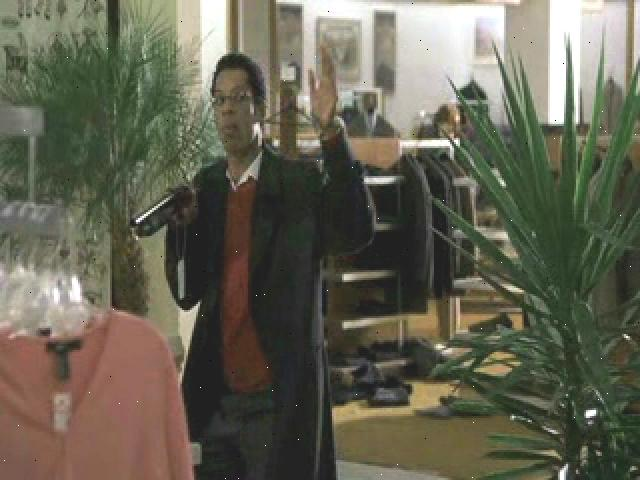L: (126, 40, 374, 476)
